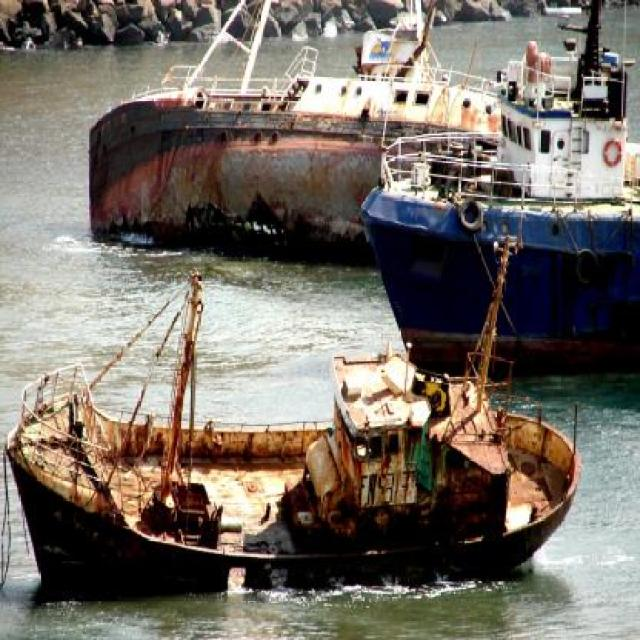corrosion: (9, 273, 582, 592), (83, 68, 640, 258)
